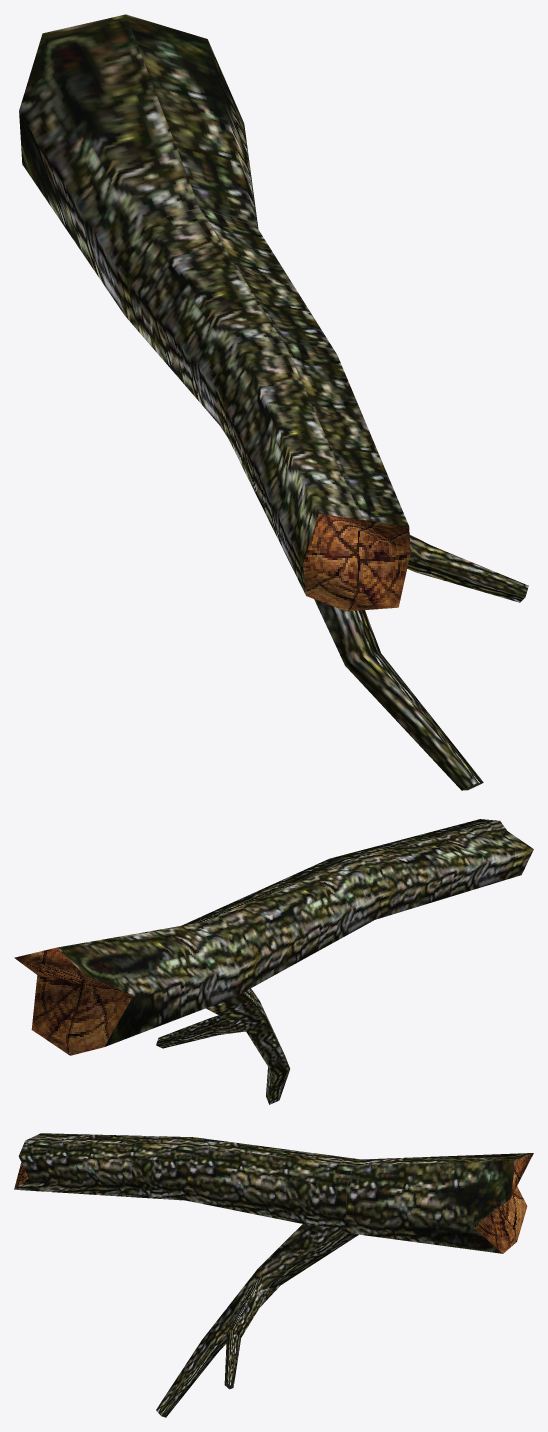
Rendered from OVERHILL_A_01_CYLINDER02.fbx.
3 views of the same model, one above another, from view 1: azimuth 30°, elevation 25°; view 2: azimuth 150°, elevation 25°; view 3: azimuth 270°, elevation 25° (orthographic). The views are drawn at different scales.
Parts seen in each view (by area): view 1: OVERHILL_A_01_CYLINDER02; view 2: OVERHILL_A_01_CYLINDER02; view 3: OVERHILL_A_01_CYLINDER02.
Part boxes in pixels (x1,y1,x2,y2): OVERHILL_A_01_CYLINDER02: (19,14,528,790); OVERHILL_A_01_CYLINDER02: (14,819,533,1104); OVERHILL_A_01_CYLINDER02: (14,1133,533,1417).
Size of the model in its own units: 18873 by 21829 by 39710.
Materials: 3 (3 with a texture image).
